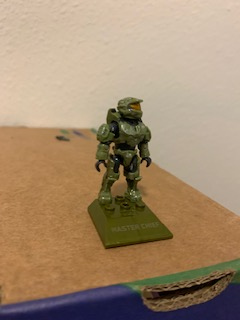chief: (93, 97, 152, 206)
spartan: (91, 95, 150, 204)
